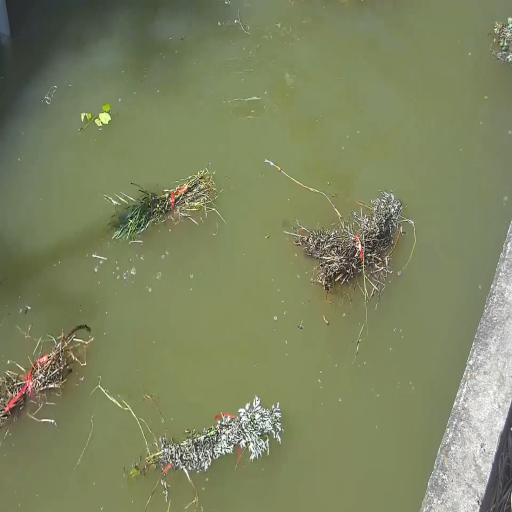twig: (141, 395, 286, 484), (300, 179, 398, 282), (5, 342, 97, 440), (110, 161, 216, 244), (74, 96, 112, 144), (485, 13, 512, 53)
